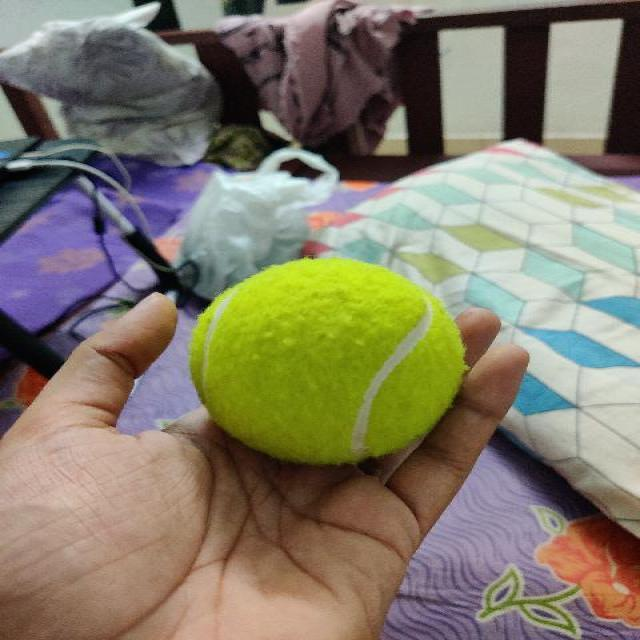tennis-ball: (186, 256, 468, 466)
